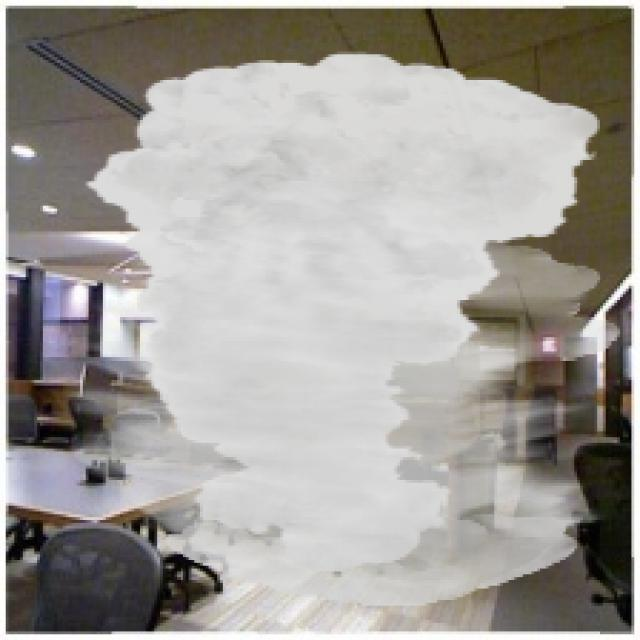Smoke: (63, 51, 620, 606)
